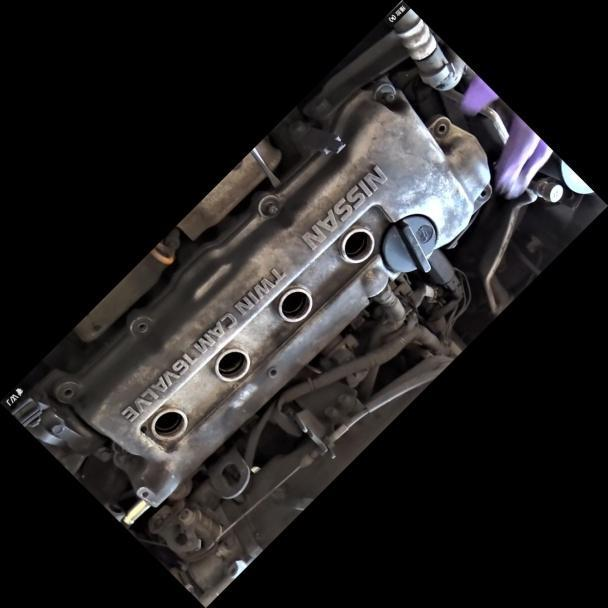hole: (133, 318, 149, 335), (59, 384, 75, 399), (264, 364, 279, 379), (434, 121, 447, 135), (477, 187, 488, 198)
